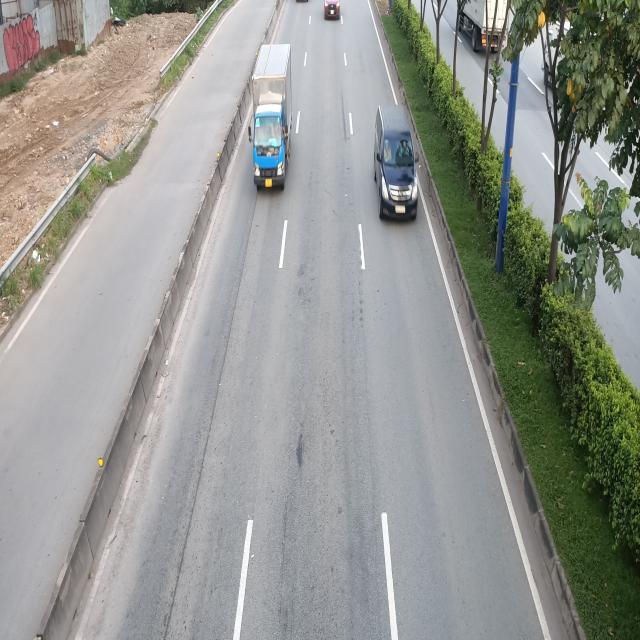car: (376, 102, 421, 220)
truck: (248, 45, 294, 194)
